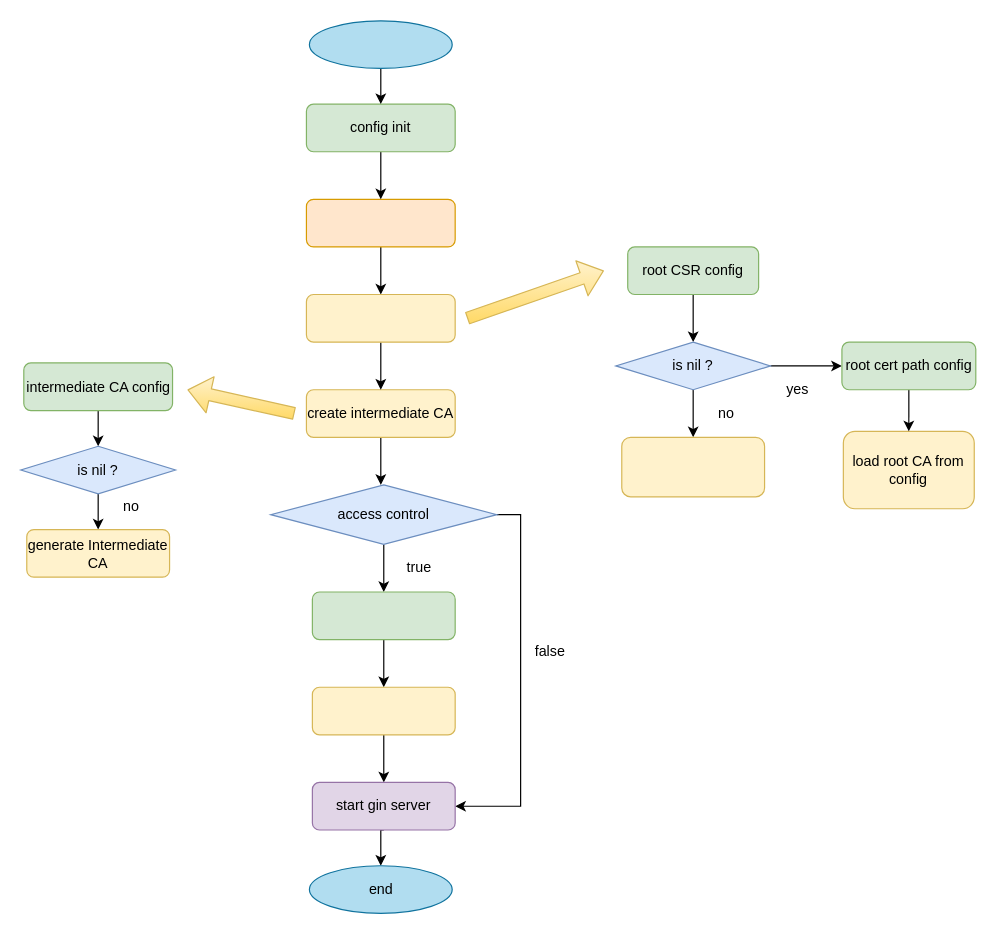
Image size: 997x934. Some labels were removed from this diagram. The box of each missing label's shape, as (x1, y1, x2, y2) in pixels:
create root CA: (305, 293, 455, 342)
DB init: (305, 198, 455, 247)
generate root CA: (621, 436, 765, 497)
load access control config: (311, 591, 455, 640)
start: (308, 20, 452, 68)
use JWT middleware: (311, 686, 455, 735)
